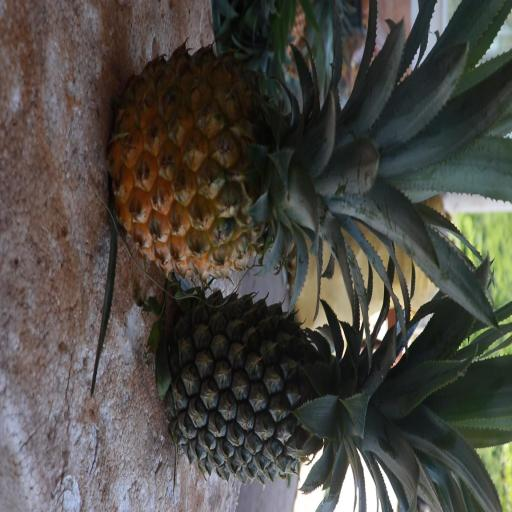Pineapple - v8 v1: (125, 55, 476, 275)
